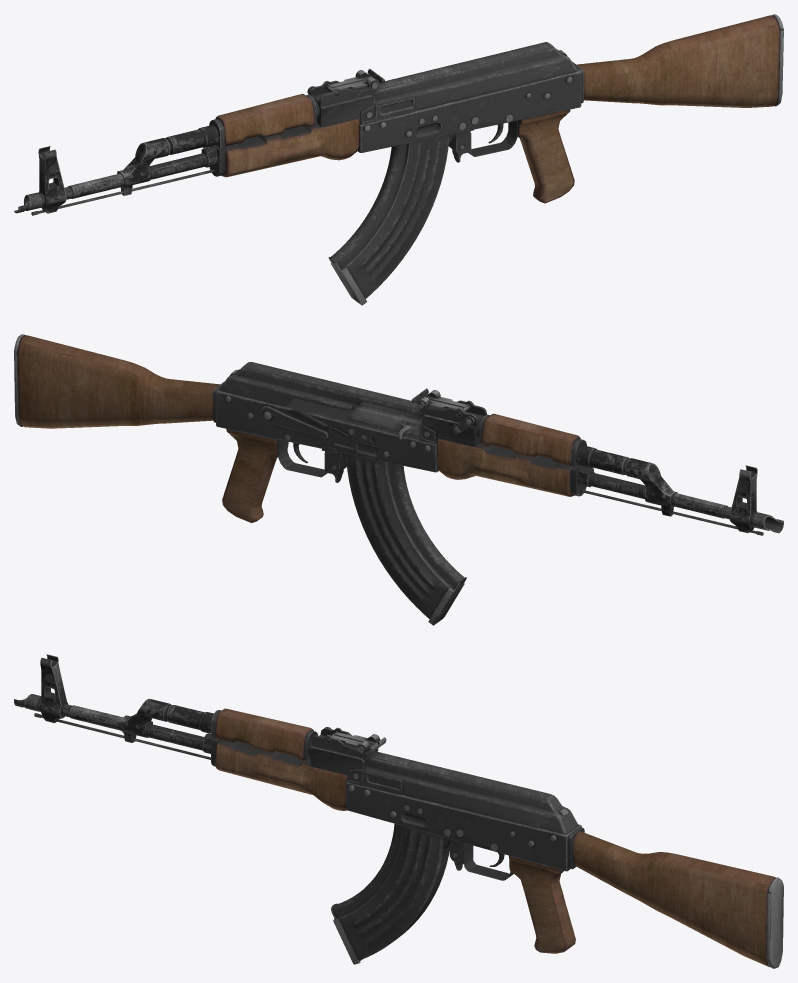
The model's file is akm.glb.
3 renders of one model, top to bottom at view 1: azimuth 30°, elevation 25°; view 2: azimuth 150°, elevation 25°; view 3: azimuth 330°, elevation 25°, orthographic.
Parts seen in each view (by area): view 1: Cylinder, Cube.012, Cube, Cube.008, Cube.002, Cube.001, Cylinder.009, Cube.003, Cylinder.010, Cube.005, Cube.006, Cube.014 (+2 smaller); view 2: Cylinder, Cube.012, Cube, Cube.008, Cube.002, Cube.001, Cylinder.009, Cube.003, Cylinder.010, Cube.005, Cube.009, Cube.011 (+3 smaller); view 3: Cylinder, Cube.012, Cube, Cube.008, Cube.002, Cube.001, Cylinder.009, Cube.003, Cylinder.010, Cube.005, Cylinder.001, Cube.006 (+1 smaller).
Part boxes in pixels (x1,y1,x2,y2): Cylinder: (577,15,780,107); Cube.012: (331,134,453,298); Cube: (358,68,581,152); Cube.008: (374,42,577,110); Cube.002: (221,118,359,177); Cube.001: (517,109,574,203); Cylinder.009: (38,146,218,213); Cube.003: (215,93,314,145); Cylinder.010: (117,125,219,195); Cube.005: (309,80,376,127); Cube.006: (455,120,517,156); Cube.014: (360,96,414,124); Cylinder: (17,335,219,428); Cube.012: (340,453,464,619); Cube: (216,388,438,472); Cube.008: (219,362,422,415); Cube.002: (437,438,574,496); Cube.001: (222,429,288,523); Cylinder.009: (578,465,757,533); Cube.003: (482,413,580,465); Cylinder.010: (576,445,677,516); Cube.005: (419,400,486,446); Cube.009: (347,401,422,439); Cube.011: (259,404,356,450); Cylinder: (572,831,775,967); Cube.012: (333,824,449,960); Cube: (346,781,581,871); Cube.008: (365,751,578,833); Cube.002: (215,739,347,810); Cube.001: (509,855,575,953); Cylinder.009: (37,654,213,753); Cube.003: (215,708,313,760); Cylinder.010: (119,698,213,742); Cube.005: (310,727,378,780); Cylinder.001: (766,877,783,968); Cube.006: (446,838,513,880).
Bounding box in the file's own units: 4.94 × 1.42 × 0.2763.
Materials: 1 (1 with a texture image).
